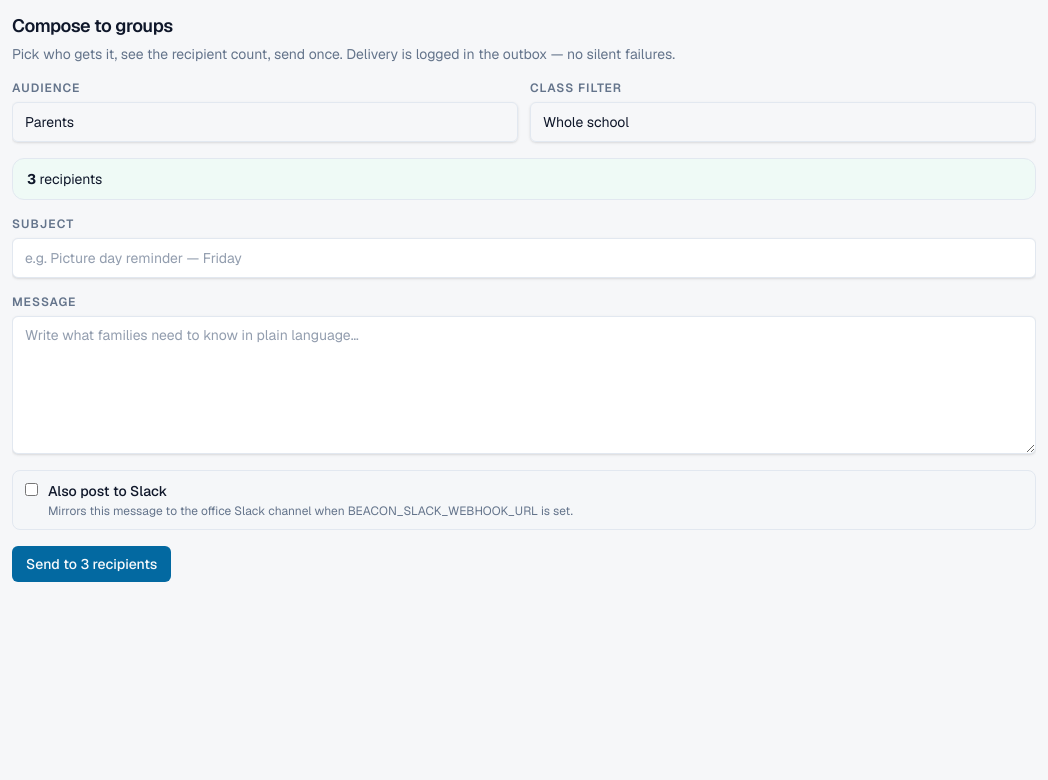
ComposeMessageForm › turns a rejected send into a stable error, restores pending state, and keeps the draft
Expected: the button "Send to 3 recipients" is shown, [12,546,171,582]
Type "School update" into the field labelled "Subject" at (524, 258), box [12,238,1036,278]
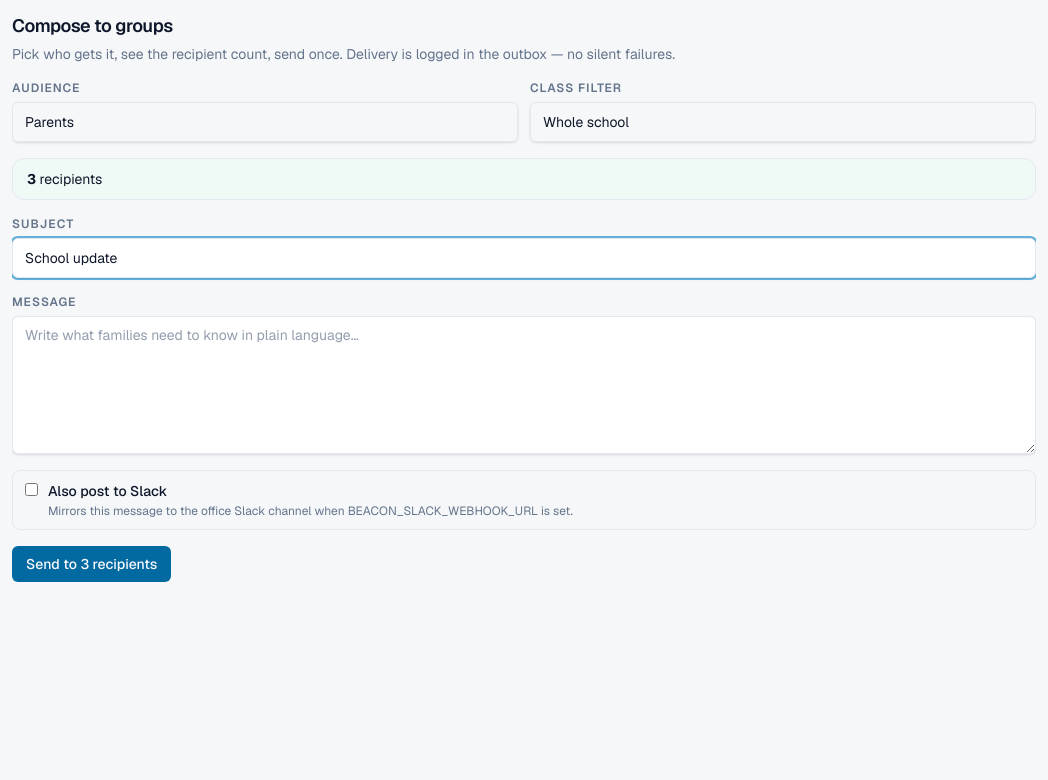
Type "Details for everyone." into the text box labelled "Message" at (524, 385), box [12,316,1036,454]
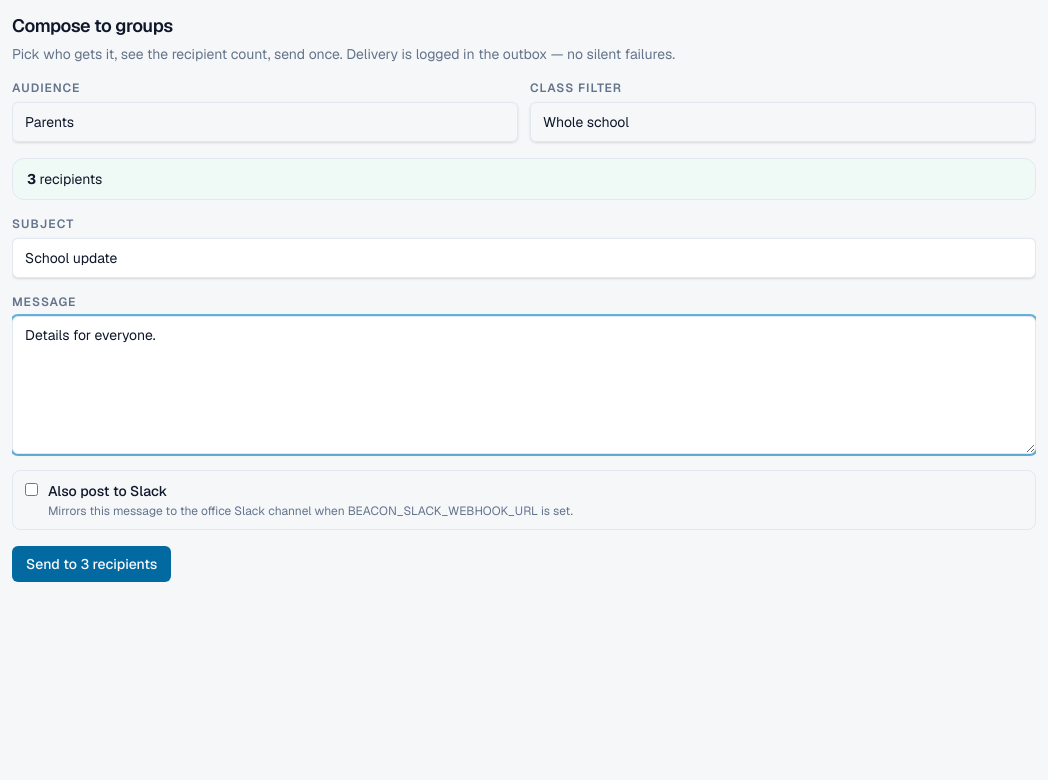
Click the button "Send to 3 recipients" at (92, 564), box [12,546,171,582]
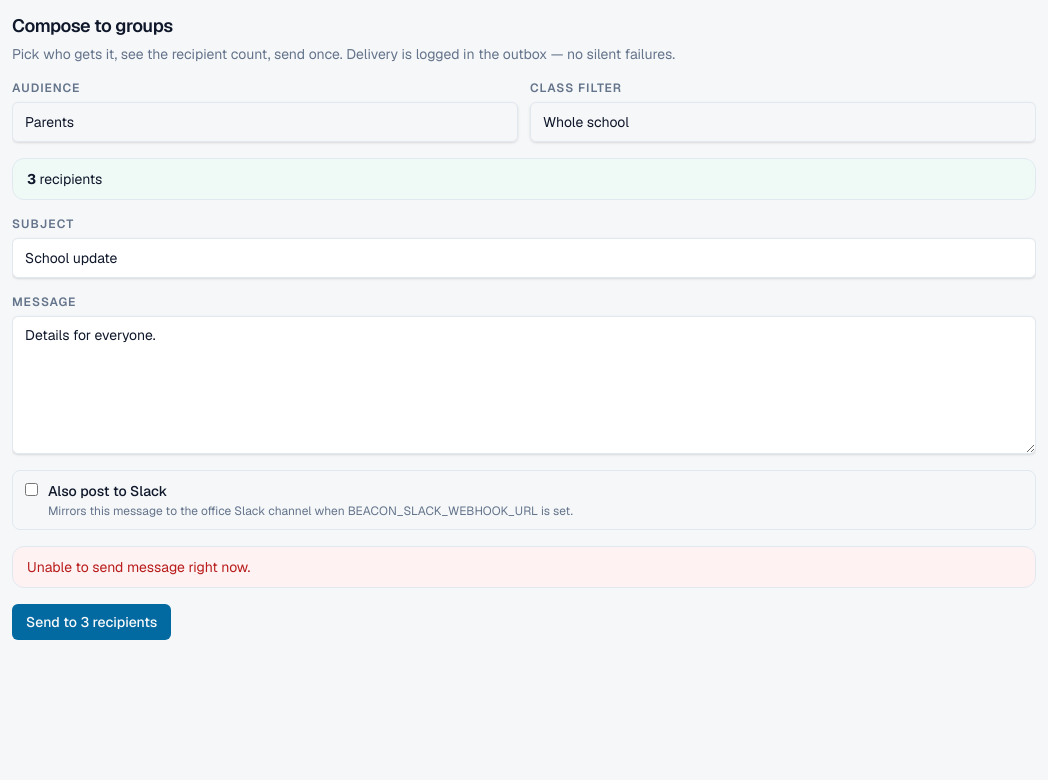
Expected: the button "Send to 3 recipients" is enabled, [12,604,171,640]
Now the message reads "Unable to send message right now.", box [27,558,250,576]
